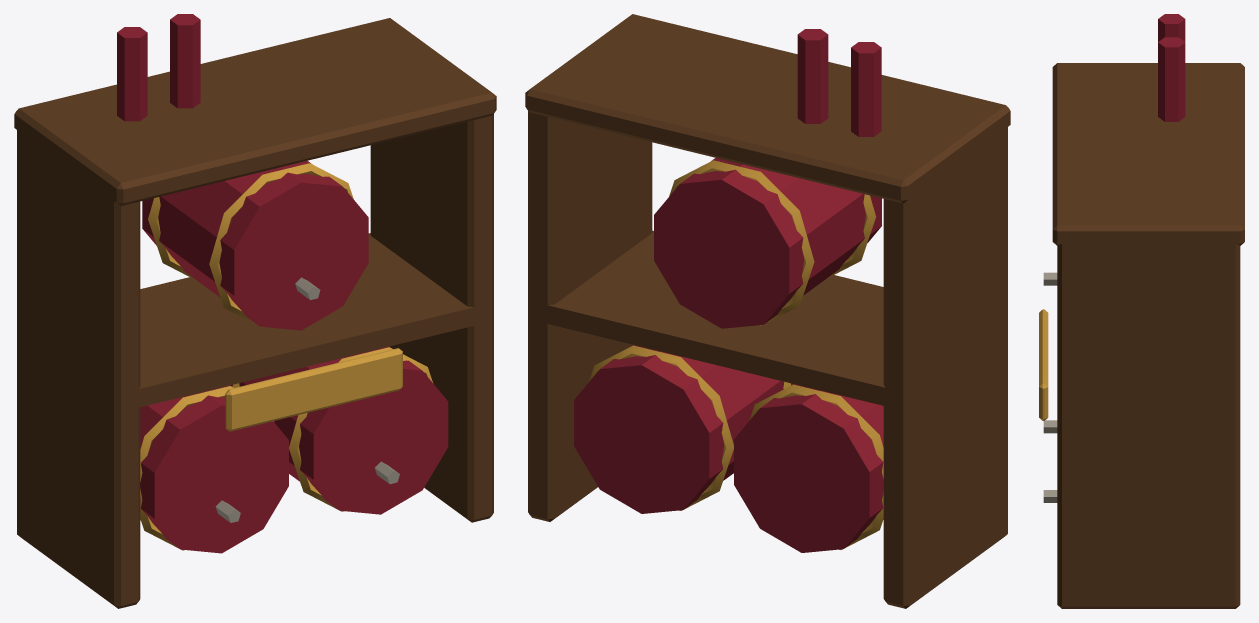
The model's file is PR_Station_Sarap_T2.fbx.
3 views of the same model, side by side, from view 1: azimuth 30°, elevation 25°; view 2: azimuth 150°, elevation 25°; view 3: azimuth 270°, elevation 25° (orthographic). The views are drawn at different scales.
Visible parts, largest first — view 1: PR_Station_Sarap_T2; view 2: PR_Station_Sarap_T2; view 3: PR_Station_Sarap_T2.
Part boxes in pixels (box(x1,y1,x2,y2)): PR_Station_Sarap_T2: box(14, 14, 496, 608); PR_Station_Sarap_T2: box(525, 14, 1010, 608); PR_Station_Sarap_T2: box(1039, 14, 1244, 608).
Size of the model in its own units: 0.86 by 1.11 by 0.45.
1 material, 1 textured.
